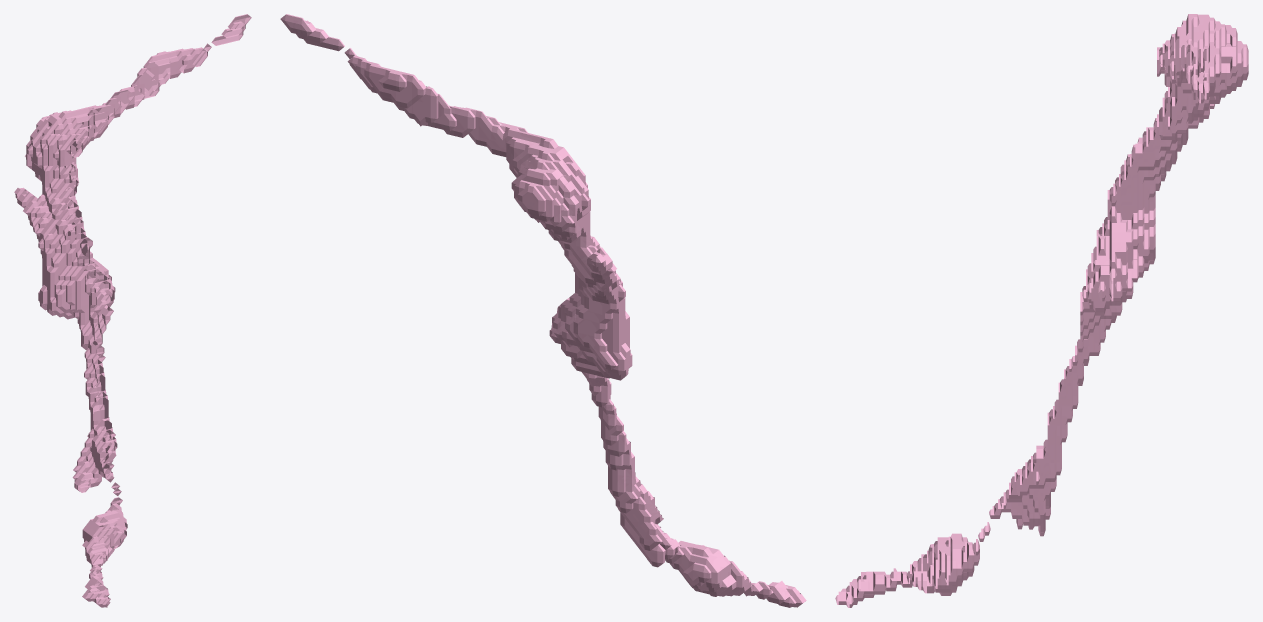
File: SVV_ALMR.gltf
3 renders of one model, left to right at view 1: azimuth 30°, elevation 25°; view 2: azimuth 150°, elevation 25°; view 3: azimuth 270°, elevation 25°, orthographic. The views are drawn at different scales.
Parts seen in each view (by area): view 1: ALMR; view 2: ALMR; view 3: ALMR.
Boxes of the visible parts, x1,y1,x2,y2 form: ALMR: (14, 14, 251, 607); ALMR: (280, 14, 806, 607); ALMR: (835, 14, 1248, 607).
Bounding box in the file's own units: 35868 × 55834 × 28940.
